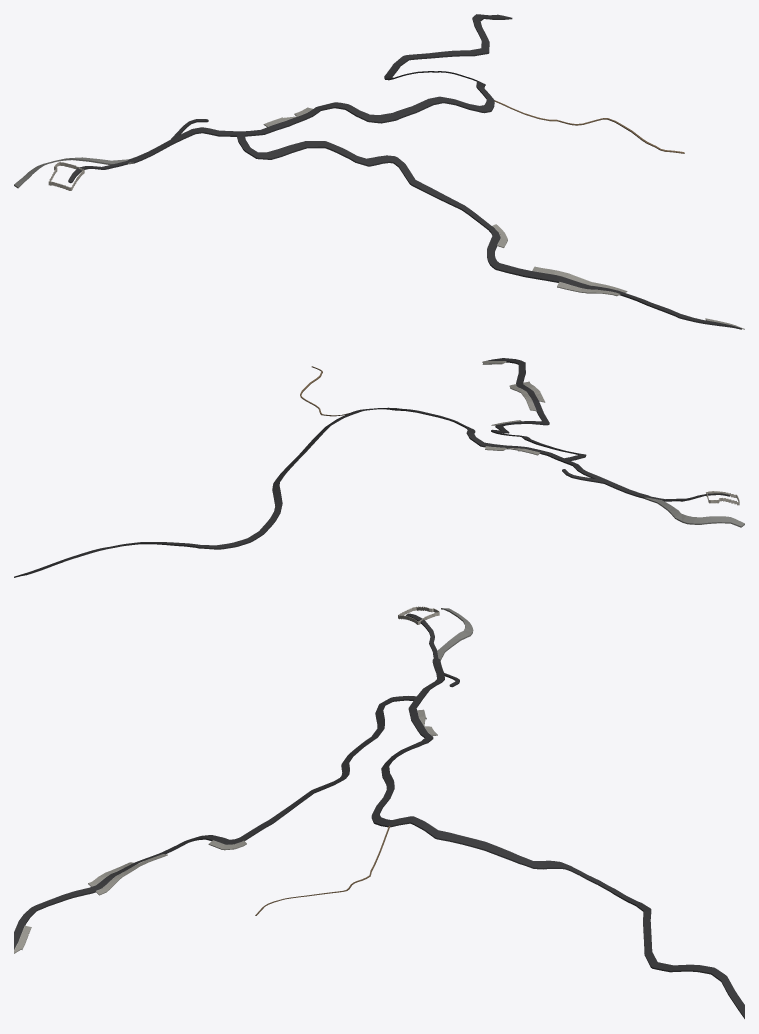
The model's file is 16-54734-29754.ae5edb07.glb.
3 renders of one model, top to bottom at view 1: azimuth 30°, elevation 25°; view 2: azimuth 150°, elevation 25°; view 3: azimuth 270°, elevation 25°, orthographic. The views are drawn at different scales.
Size of the model in its own units: 585 by 105 by 584.
